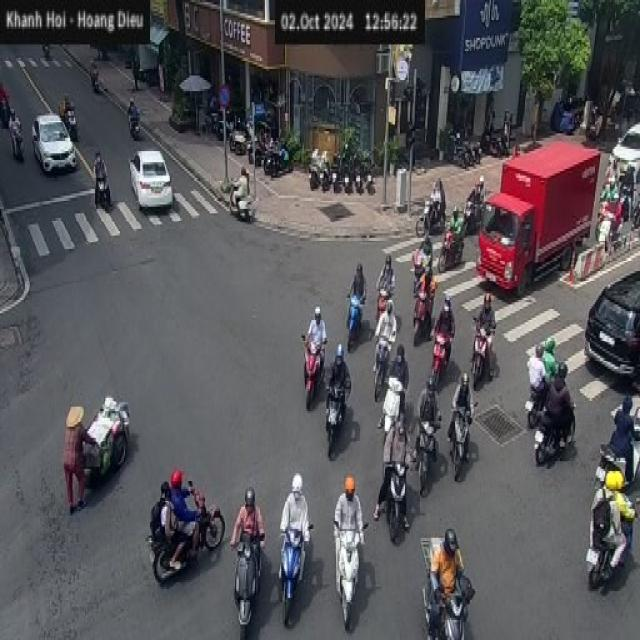car: (582, 269, 638, 384), (32, 111, 76, 176), (128, 149, 172, 211), (617, 110, 640, 191)
motorcycle: (146, 489, 225, 584), (332, 518, 368, 629), (276, 522, 312, 627), (230, 531, 264, 638), (589, 518, 634, 590), (423, 580, 476, 640), (533, 400, 575, 464), (596, 435, 640, 495), (447, 400, 478, 480), (382, 458, 408, 544), (300, 331, 326, 409), (414, 418, 440, 496), (324, 378, 348, 458), (470, 316, 496, 386), (519, 386, 564, 426), (412, 274, 436, 344), (371, 331, 395, 400), (428, 320, 454, 382), (345, 287, 365, 351), (592, 208, 623, 247), (438, 232, 464, 278), (414, 206, 443, 242), (226, 192, 256, 222), (375, 288, 395, 328), (463, 201, 488, 232), (8, 113, 24, 160), (94, 162, 110, 209), (615, 188, 637, 222), (448, 136, 470, 169), (268, 149, 292, 177), (339, 143, 352, 193), (350, 150, 364, 192), (229, 132, 258, 152), (364, 152, 377, 195), (250, 139, 274, 162), (205, 104, 226, 130), (462, 132, 479, 163), (313, 151, 326, 190), (0, 100, 14, 134), (493, 127, 509, 152), (83, 68, 100, 90), (307, 154, 317, 190), (128, 109, 140, 138), (606, 180, 618, 208), (328, 158, 338, 190)
person: (62, 404, 98, 514), (229, 486, 265, 596), (434, 523, 470, 621), (283, 466, 311, 558), (336, 465, 363, 555), (299, 302, 327, 386), (449, 371, 479, 442), (165, 469, 195, 538), (153, 462, 173, 556), (387, 414, 409, 496), (346, 258, 369, 336), (593, 468, 614, 548), (616, 391, 635, 476), (613, 467, 632, 550), (542, 332, 573, 381), (376, 297, 400, 358), (373, 243, 398, 298), (438, 295, 463, 350), (528, 344, 550, 406), (331, 349, 348, 425), (556, 360, 576, 422), (418, 373, 437, 435), (393, 349, 410, 416), (472, 166, 492, 217), (545, 366, 561, 426), (480, 284, 496, 342), (230, 164, 249, 209), (421, 273, 437, 317), (461, 176, 477, 218), (437, 176, 450, 222), (94, 136, 105, 182), (429, 171, 438, 226), (602, 171, 616, 205), (0, 73, 13, 109), (84, 51, 104, 74), (64, 94, 79, 122), (622, 154, 636, 184), (610, 138, 620, 179), (10, 106, 23, 131), (126, 93, 138, 116)
truck: (475, 136, 601, 296)
